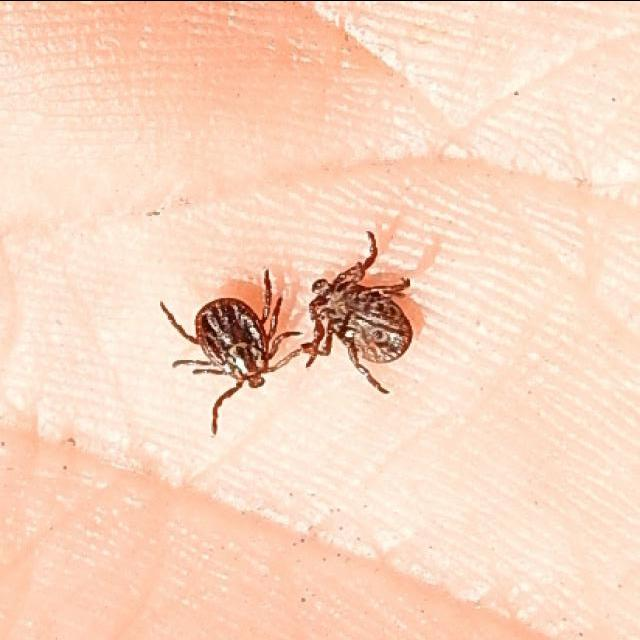Dermacentor Reticulatus-F: (160, 268, 304, 434)
